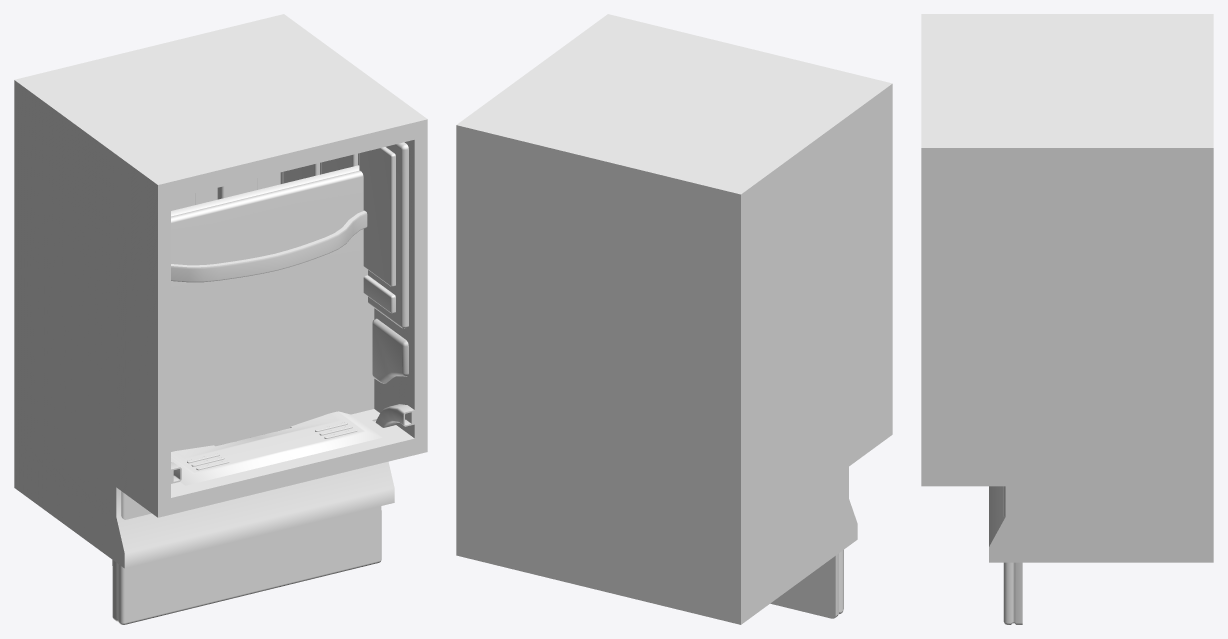
File: dishwasher_FP1.obj
The picture shows the model from 3 angles, left to right: view 1: azimuth 30°, elevation 25°; view 2: azimuth 150°, elevation 25°; view 3: azimuth 270°, elevation 25°; orthographic projection. The views are drawn at different scales.
Parts seen in each view (by area): view 1: dishwasher_FP1_6ce43914, dishwasher_door_FP1_95ee9ec4; view 2: dishwasher_FP1_6ce43914, dishwasher_door_FP1_95ee9ec4; view 3: dishwasher_FP1_6ce43914, dishwasher_door_FP1_95ee9ec4.
Part boxes in pixels (left/top/right/bottom): dishwasher_FP1_6ce43914: left=14, top=14, right=427, bottom=568; dishwasher_door_FP1_95ee9ec4: left=112, top=165, right=381, bottom=624; dishwasher_FP1_6ce43914: left=456, top=14, right=892, bottom=624; dishwasher_door_FP1_95ee9ec4: left=770, top=550, right=843, bottom=618; dishwasher_FP1_6ce43914: left=921, top=14, right=1213, bottom=562; dishwasher_door_FP1_95ee9ec4: left=1003, top=486, right=1022, bottom=624.
Size of the model in its own units: 0.6018 by 1.01 by 0.5555.
